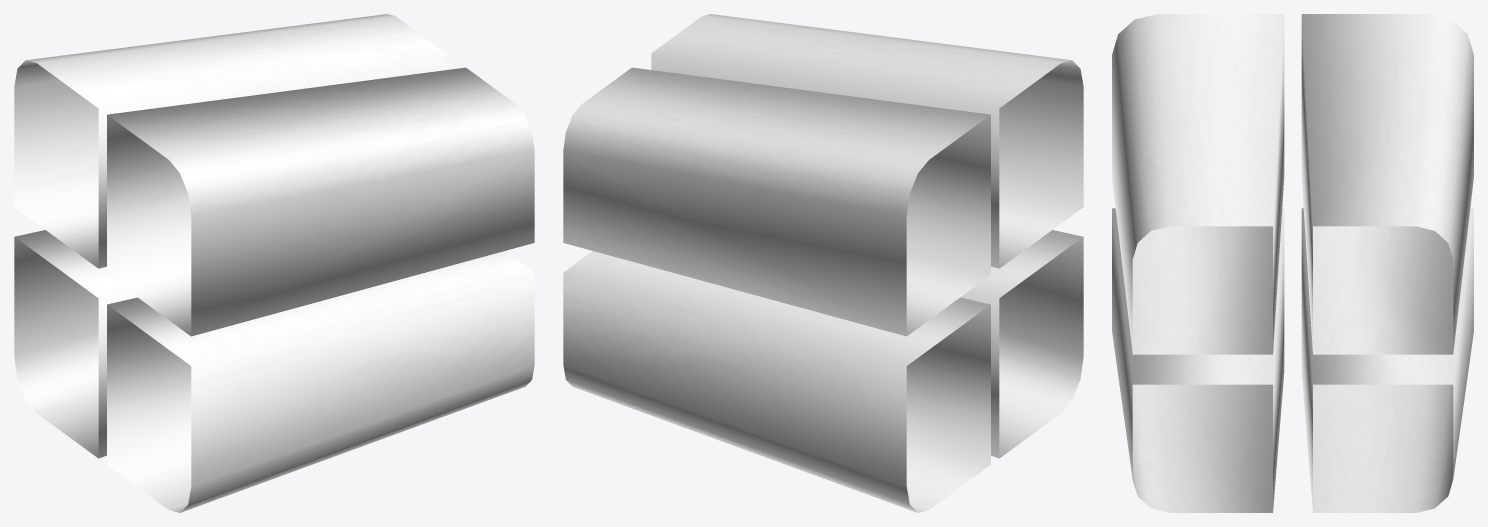
The model's file is Light_h.fbx.
3 views of the same model, side by side, from view 1: azimuth 30°, elevation 25°; view 2: azimuth 150°, elevation 25°; view 3: azimuth 270°, elevation 25° (orthographic). The views are drawn at different scales.
Visible parts, largest first — view 1: polySurface82; view 2: polySurface82; view 3: polySurface82.
Part boxes in pixels (x1,y1,x2,y2): polySurface82: (14,14,534,512); polySurface82: (563,14,1083,512); polySurface82: (1112,14,1473,512).
Bounding box in the file's own units: 2.23 × 2.11 × 1.94.
